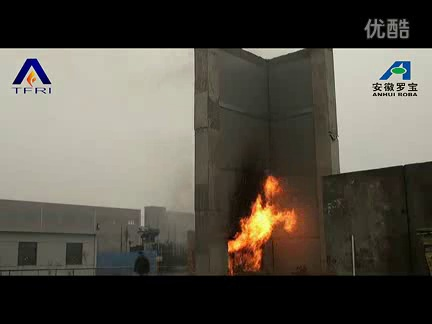fire: (228, 175, 299, 273)
